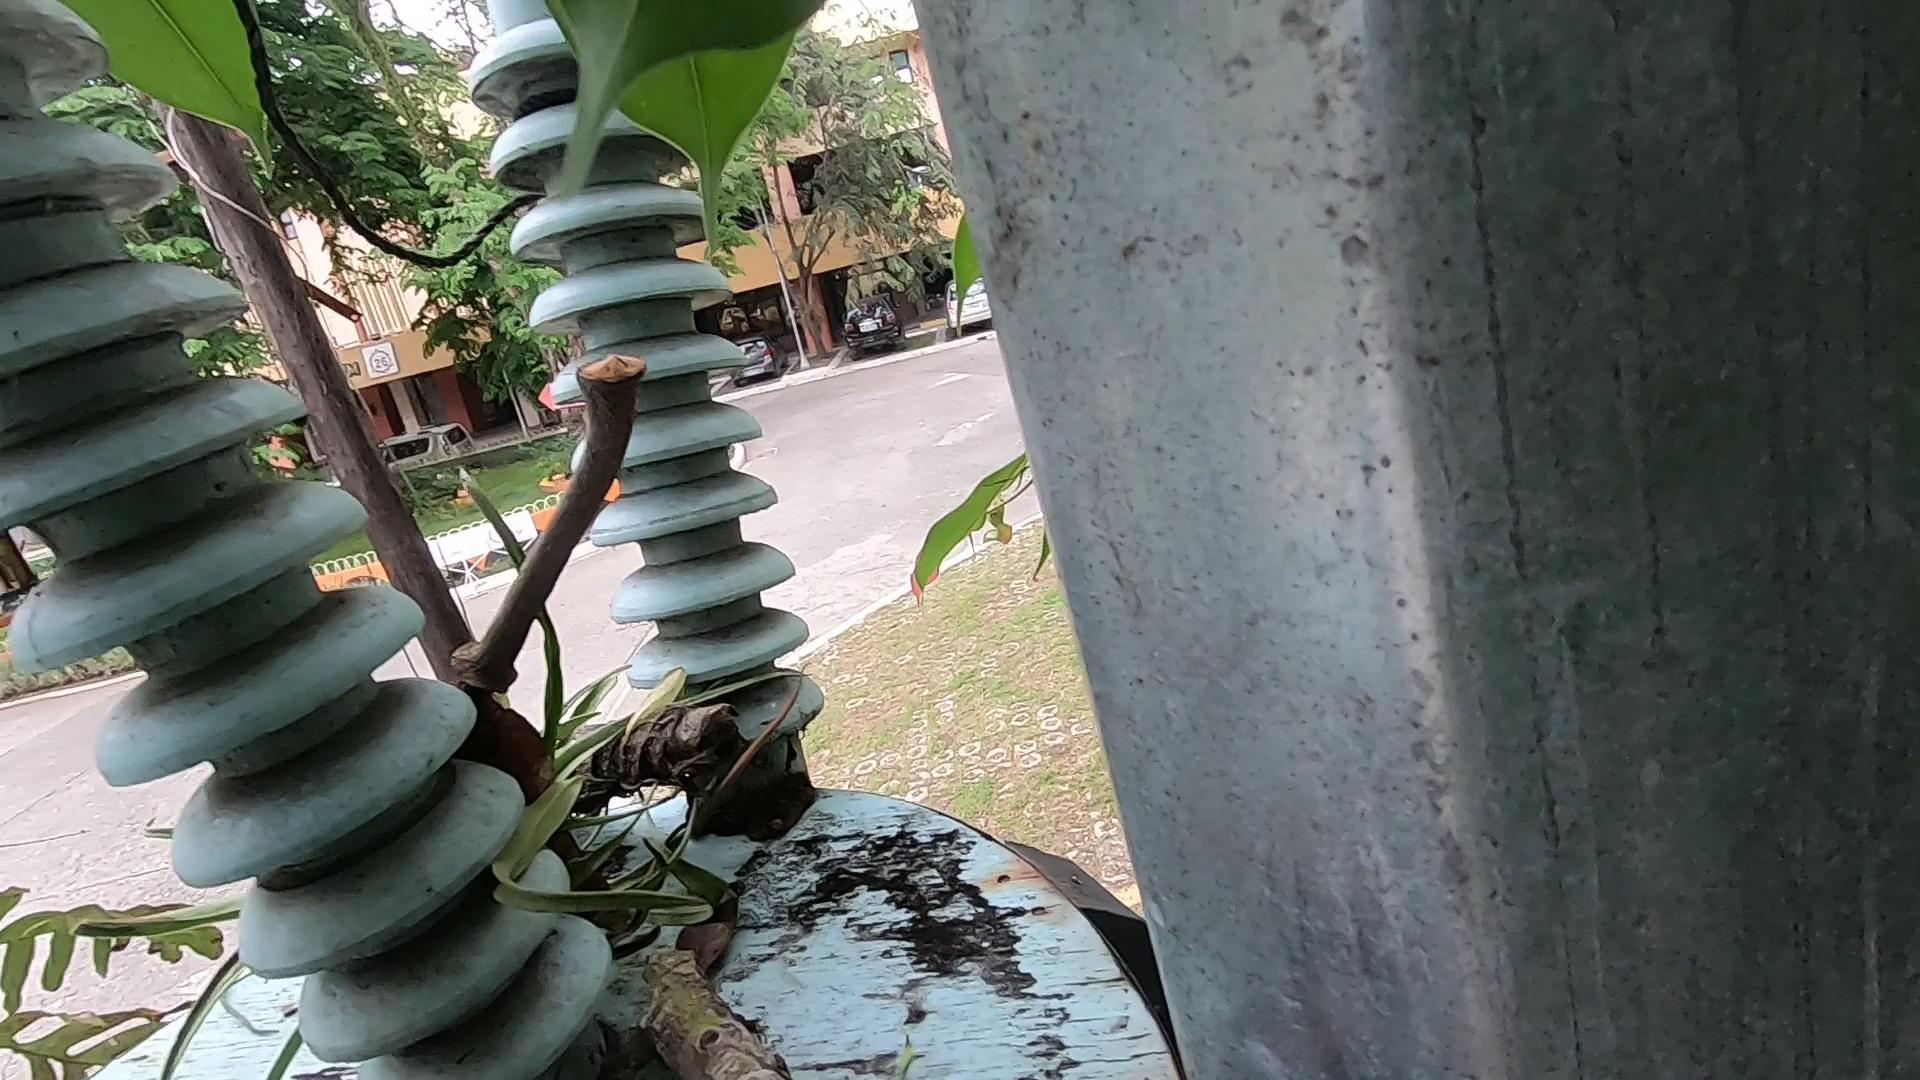branch with leaves: (451, 622, 808, 1080)
tree branch: (477, 307, 698, 746)
